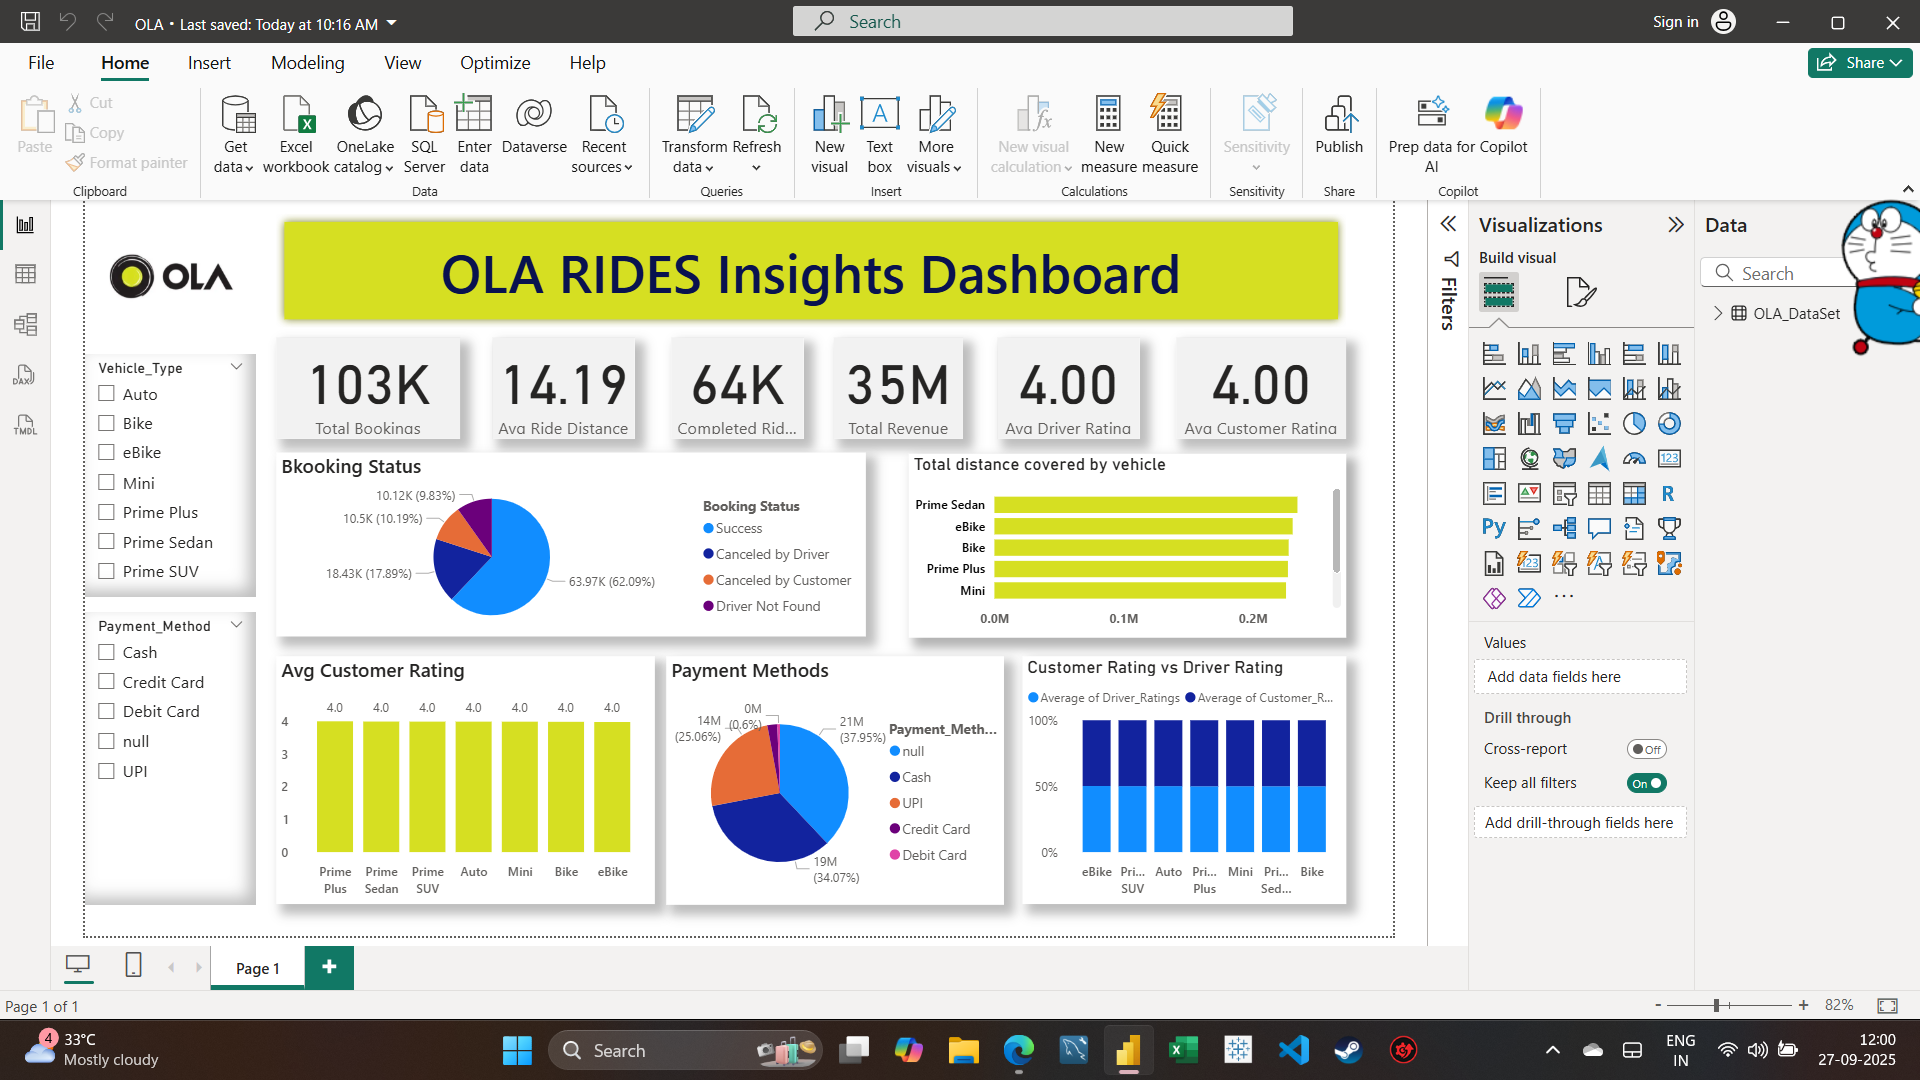

This screenshot's page, from the dashboard's own definition file:
{"tool":"powerbi","page":{"name":"Page 1","canvas":[1280,720],"ordinal":0},"visuals":[{"type":"group","id":"g1","title":"Group 1","box":[187.1,134.5,1046.7,99],"z":0},{"type":"card","fields":{"Values":["OLA_DataSet.Total Bookings"]},"box":[187.1,134.5,179.9,99.6],"z":0,"group":"g1"},{"type":"card","fields":{"Values":["OLA_DataSet.Completed Rides"]},"box":[574.1,134.5,129.5,99.6],"z":1000,"group":"g1"},{"type":"slicer","fields":{"Values":["OLA_DataSet.Vehicle_Type"]},"box":[0,150.9,167.4,238.8],"z":1000},{"type":"pieChart","title":"Bkooking Status","fields":{"Category":["OLA_DataSet.Booking_Status"],"Y":["CountNonNull(OLA_DataSet.Booking_ID)"]},"box":[187.1,247,577.2,180],"z":1000,"group":"g2"},{"type":"card","fields":{"Values":["OLA_DataSet.Total Revenue"]},"box":[732.2,134.5,126.7,99.6],"z":2000,"group":"g1"},{"type":"barChart","title":"Total distance covered by vehicle ","fields":{"Category":["OLA_DataSet.Vehicle_Type"],"Y":["Sum(OLA_DataSet.Ride_Distance)"]},"box":[805.9,247.9,428,180],"z":2000,"group":"g2"},{"type":"slicer","fields":{"Values":["OLA_DataSet.Payment_Method"]},"box":[0,403.4,167.4,286.8],"z":2000},{"type":"image","box":[0,0,168.8,149.6],"z":3000},{"type":"card","fields":{"Values":["OLA_DataSet.Avg Ride Distance"]},"box":[398.3,134.5,139,99.6],"z":3000,"group":"g1"},{"type":"clusteredColumnChart","title":"Avg Customer Rating","fields":{"Category":["OLA_DataSet.Vehicle_Type"],"Y":["Avg(OLA_DataSet.Customer_Rating)"]},"box":[187.1,446.4,370.5,242.8],"z":3000,"group":"g3"},{"type":"card","fields":{"Values":["OLA_DataSet.Avg Customer Rating"]},"box":[1067.4,134.5,166.2,99.6],"z":4000,"group":"g1"},{"type":"group","id":"g2","title":"Group 2","box":[187.1,247,1046.7,181],"z":4000},{"type":"pieChart","title":"Payment Methods","fields":{"Category":["OLA_DataSet.Payment_Method"],"Y":["Sum(OLA_DataSet.Booking_Value)"]},"box":[568.1,446.3,330.7,243.3],"z":4000,"group":"g3"},{"type":"card","fields":{"Values":["OLA_DataSet.Avg Driver Rating"]},"box":[893,134.5,139,99.6],"z":5000,"group":"g1"},{"type":"group","id":"g3","title":"Group 3","box":[187.1,446.3,1046.7,243.3],"z":5000},{"type":"hundredPercentStackedColumnChart","title":"Customer Rating vs Driver Rating ","fields":{"Category":["OLA_DataSet.Vehicle_Type"],"Y":["Avg(OLA_DataSet.Driver_Ratings)","Avg(OLA_DataSet.Customer_Rating)"]},"box":[917.1,446.4,316.7,242.8],"z":5000,"group":"g3"},{"type":"shape","title":"d","box":[187.1,13.5,1046.7,111.3],"z":6000}]}

Visuals, with their boxes on the page's 1280x720 design canvas (x1, y1, x2, y2). These are canvas units, not pixel positions in the 1920x1080 screenshot, which may show the page scaled, cropped or inside an application window:
"Group 1" group: [187,134,1234,234]
card - OLA_DataSet.Total Bookings: [187,134,367,234]
card - OLA_DataSet.Completed Rides: [574,134,704,234]
slicer - OLA_DataSet.Vehicle_Type: [0,151,167,390]
"Bkooking Status" pieChart: [187,247,764,427]
card - OLA_DataSet.Total Revenue: [732,134,859,234]
"Total distance covered by vehicle " barChart: [806,248,1234,428]
slicer - OLA_DataSet.Payment_Method: [0,403,167,690]
image: [0,0,169,150]
card - OLA_DataSet.Avg Ride Distance: [398,134,537,234]
"Avg Customer Rating" clusteredColumnChart: [187,446,558,689]
card - OLA_DataSet.Avg Customer Rating: [1067,134,1234,234]
"Group 2" group: [187,247,1234,428]
"Payment Methods" pieChart: [568,446,899,690]
card - OLA_DataSet.Avg Driver Rating: [893,134,1032,234]
"Group 3" group: [187,446,1234,690]
"Customer Rating vs Driver Rating " hundredPercentStackedColumnChart: [917,446,1234,689]
"d" shape: [187,14,1234,125]
